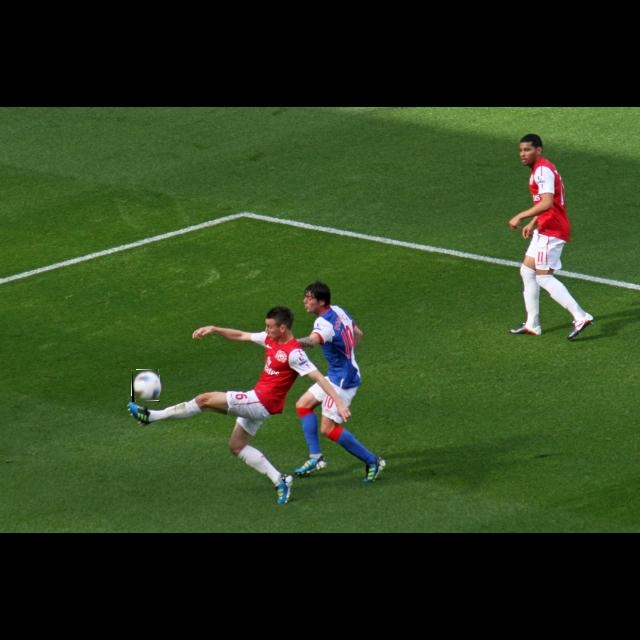Football: (132, 370, 160, 402)
